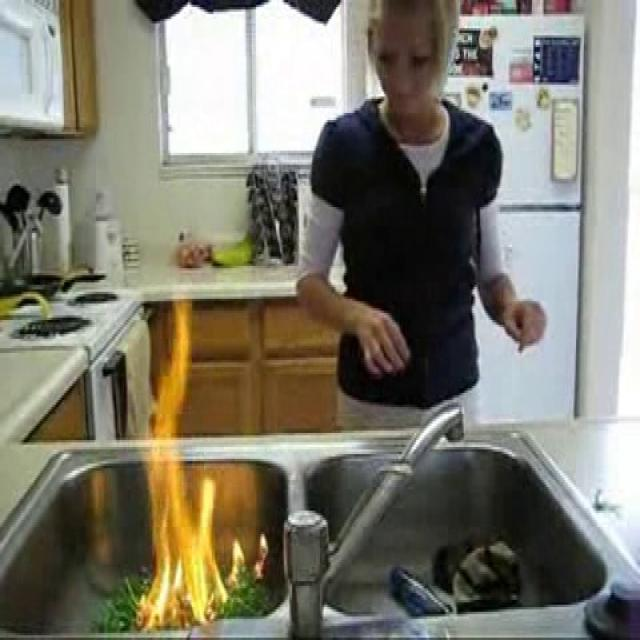fire: (128, 295, 229, 623)
